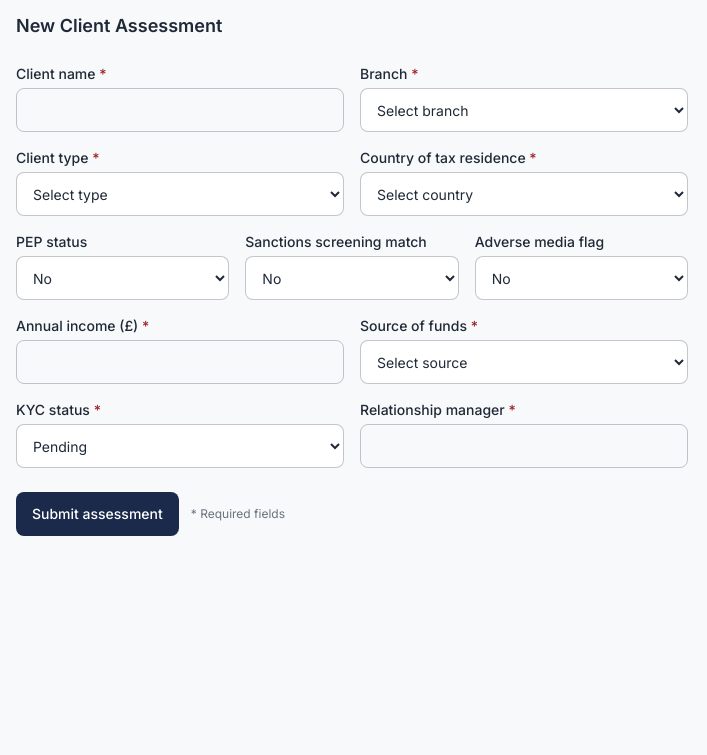
Test case: IntakeForm — live classification › updates live classification when country changes to Russia
The width and height of the screenshot is (707, 755).
Select "Russia" in the dropdown labelled "Country of tax residence *" at {"x": 524, "y": 194}, box top-left (360, 172), bottom-right (688, 216)
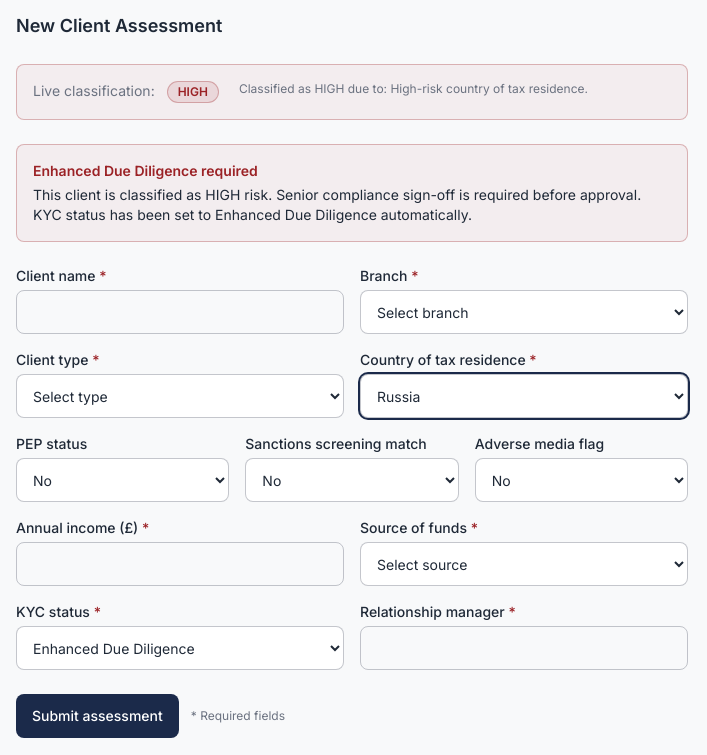
Check: the text "HIGH" is shown, box top-left (167, 81), bottom-right (219, 103)
